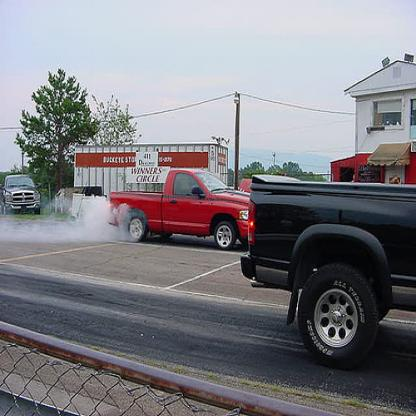car: (240, 173, 416, 370), (108, 166, 249, 251), (1, 173, 43, 215)
